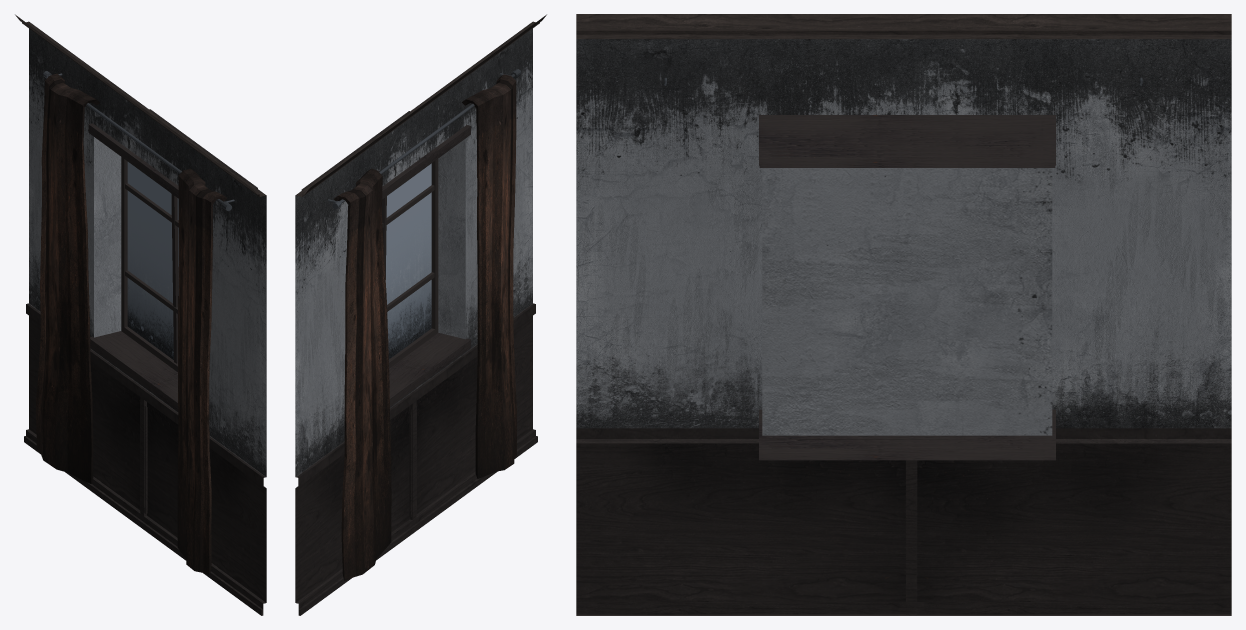
File: FPH_Window.fbx
The picture shows the model from 3 angles, left to right: view 1: azimuth 30°, elevation 25°; view 2: azimuth 150°, elevation 25°; view 3: azimuth 270°, elevation 25°; orthographic projection. The views are drawn at different scales.
Parts seen in each view (by area): view 1: FPH_Wall, FPH_Window; view 2: FPH_Wall, FPH_Window; view 3: FPH_Wall, FPH_Window.
Part boxes in pixels (x1,y1,x2,y2): FPH_Wall: [15, 14, 266, 615]; FPH_Window: [35, 71, 257, 575]; FPH_Wall: [295, 14, 546, 615]; FPH_Window: [301, 69, 521, 580]; FPH_Wall: [576, 14, 1231, 615]; FPH_Window: [664, 77, 1142, 460].
Size of the model in its own units: 2.72 by 13.3 by 13.3.
